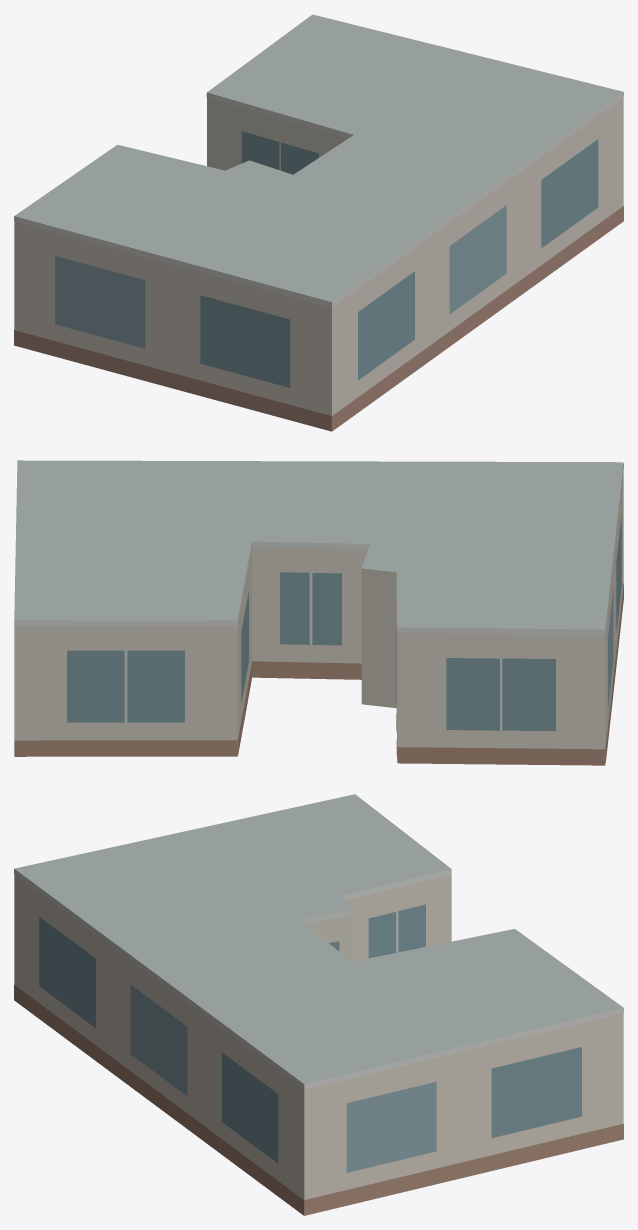
File: survey-upis-32954582.glb
3 views of the same model, one above another, from view 1: azimuth 30°, elevation 25°; view 2: azimuth 150°, elevation 25°; view 3: azimuth 270°, elevation 25° (orthographic). The views are drawn at different scales.
Visible parts, largest first — view 1: survey-upis-32954582.tmp; view 2: survey-upis-32954582.tmp; view 3: survey-upis-32954582.tmp.
Boxes of the visible parts, bbox=[...] form: survey-upis-32954582.tmp: bbox=[14, 14, 623, 431]; survey-upis-32954582.tmp: bbox=[14, 460, 623, 765]; survey-upis-32954582.tmp: bbox=[14, 794, 623, 1215].
Size of the model in its own units: 14.43 by 3.05 by 12.82.
